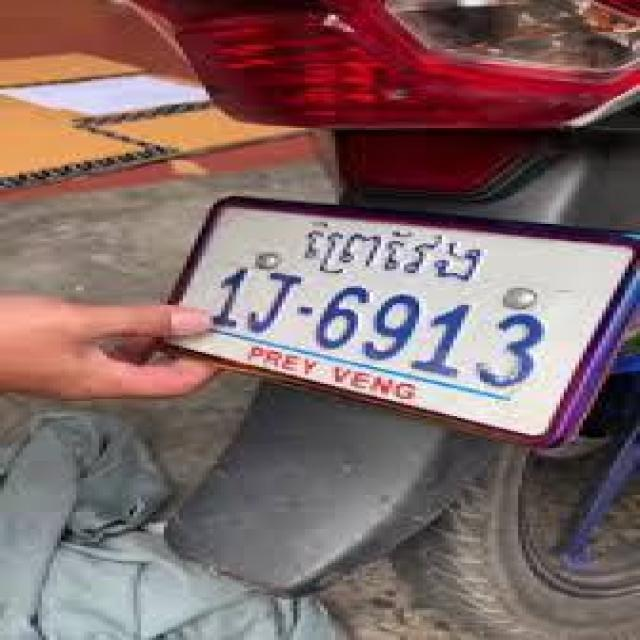Prey_Veng: (297, 215, 483, 290)
